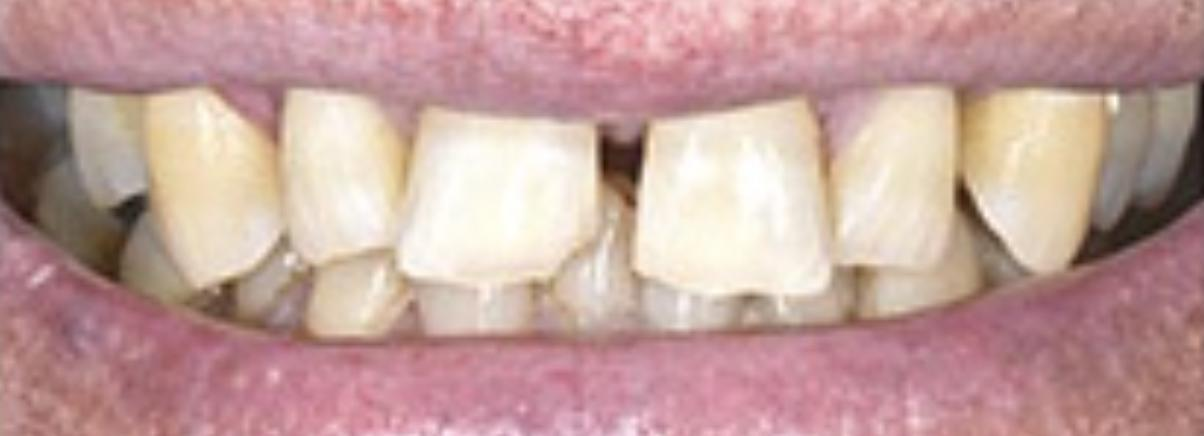Spaced: (598, 127, 642, 262)
